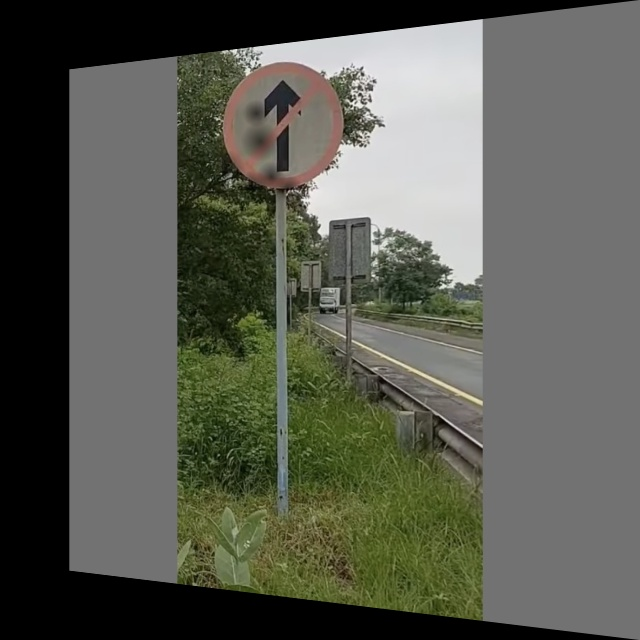No_Entry: (222, 56, 345, 190)
